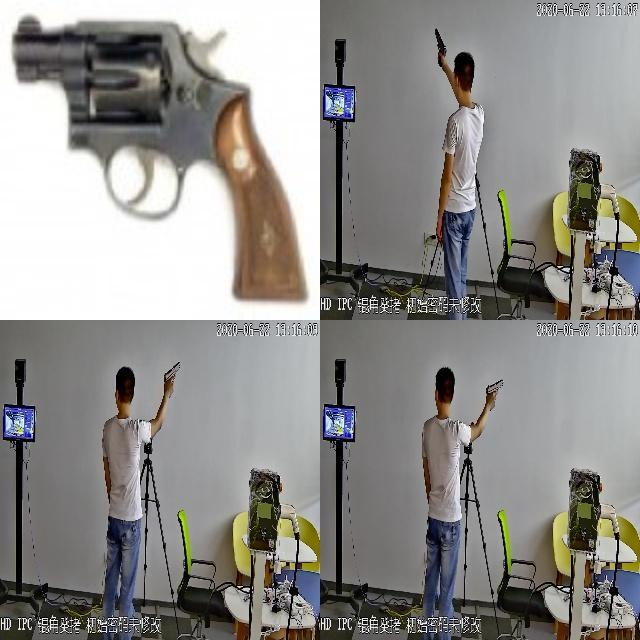gun-knife-thesis - v11 Yolov5 augmented: (13, 17, 307, 300), (483, 374, 503, 409), (161, 359, 180, 395), (432, 25, 446, 67)
